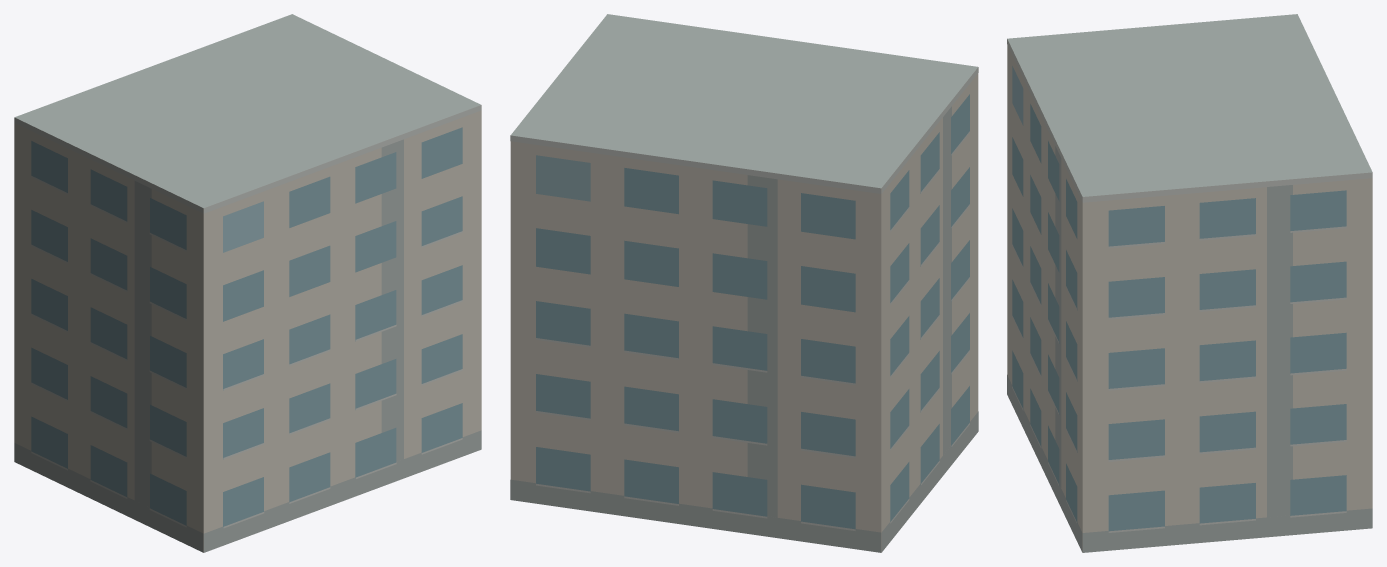
File: residential-5960e9fd-3fbe-42d7-9413-b485ceff71eb.glb
3 renders of one model, left to right at view 1: azimuth 30°, elevation 25°; view 2: azimuth 150°, elevation 25°; view 3: azimuth 270°, elevation 25°, orthographic. The views are drawn at different scales.
Parts seen in each view (by area): view 1: residential-5960e9fd-3fbe-42d7-9413-b485ceff71eb.tmp; view 2: residential-5960e9fd-3fbe-42d7-9413-b485ceff71eb.tmp; view 3: residential-5960e9fd-3fbe-42d7-9413-b485ceff71eb.tmp.
Part boxes in pixels (x1,y1,x2,y2): residential-5960e9fd-3fbe-42d7-9413-b485ceff71eb.tmp: [14, 14, 481, 552]; residential-5960e9fd-3fbe-42d7-9413-b485ceff71eb.tmp: [510, 14, 978, 552]; residential-5960e9fd-3fbe-42d7-9413-b485ceff71eb.tmp: [1007, 14, 1372, 552].
Size of the model in its own units: 16.83 by 15.25 by 14.2.
